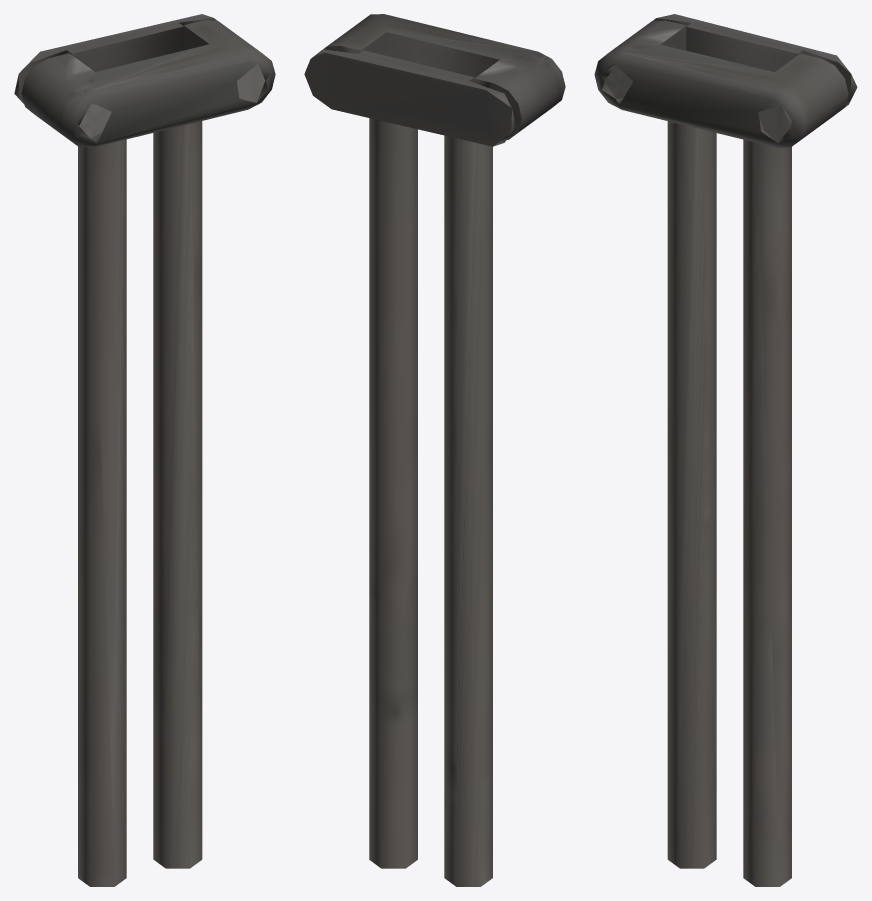
The model's file is modular-electric-cables-double.glb.
3 renders of one model, left to right at view 1: azimuth 30°, elevation 25°; view 2: azimuth 150°, elevation 25°; view 3: azimuth 330°, elevation 25°, orthographic.
Visible parts, largest first — view 1: modular_electric_cables_double; view 2: modular_electric_cables_double; view 3: modular_electric_cables_double.
Boxes of the visible parts, box(x1,y1,x2,y2) form: modular_electric_cables_double: box(14, 14, 275, 886); modular_electric_cables_double: box(304, 14, 565, 886); modular_electric_cables_double: box(594, 14, 857, 886).
Bounding box in the file's own units: 0.0556 × 0.2073 × 0.0259.
1 material, 1 textured.
